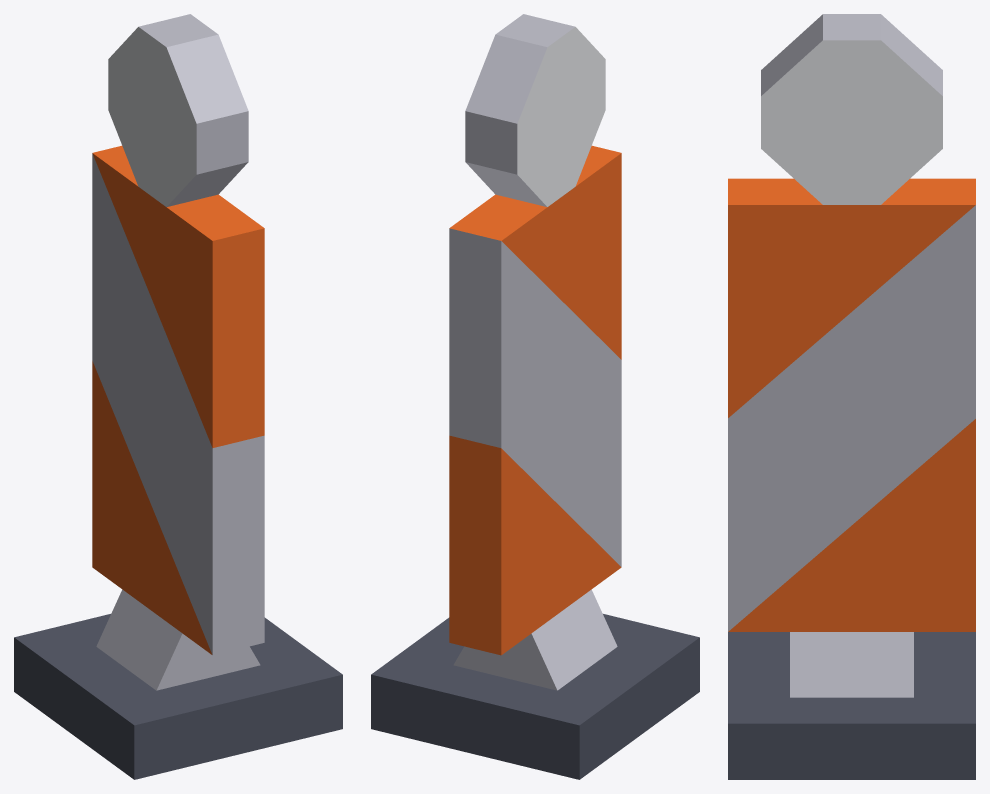
The model's file is Construction Light.glb.
The picture shows the model from 3 angles, left to right: view 1: azimuth 30°, elevation 25°; view 2: azimuth 150°, elevation 25°; view 3: azimuth 270°, elevation 25°; orthographic projection. The views are drawn at different scales.
Visible parts, largest first — view 1: construction_light; view 2: construction_light; view 3: construction_light.
Part boxes in pixels (bbox=[...]): construction_light: bbox=[14, 14, 342, 779]; construction_light: bbox=[371, 14, 699, 779]; construction_light: bbox=[728, 14, 975, 779].
Bounding box in the file's own units: 0.075 × 0.2338 × 0.075.
